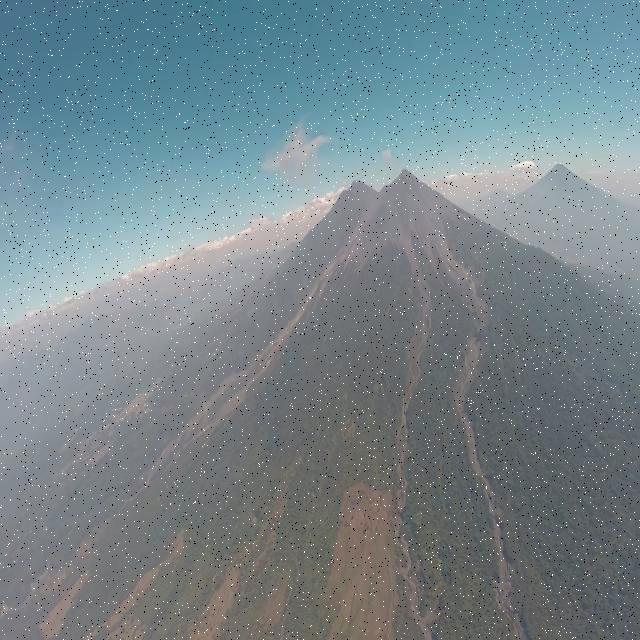Plume: (263, 116, 333, 178), (382, 145, 394, 166)
Summit: (391, 166, 418, 183)
